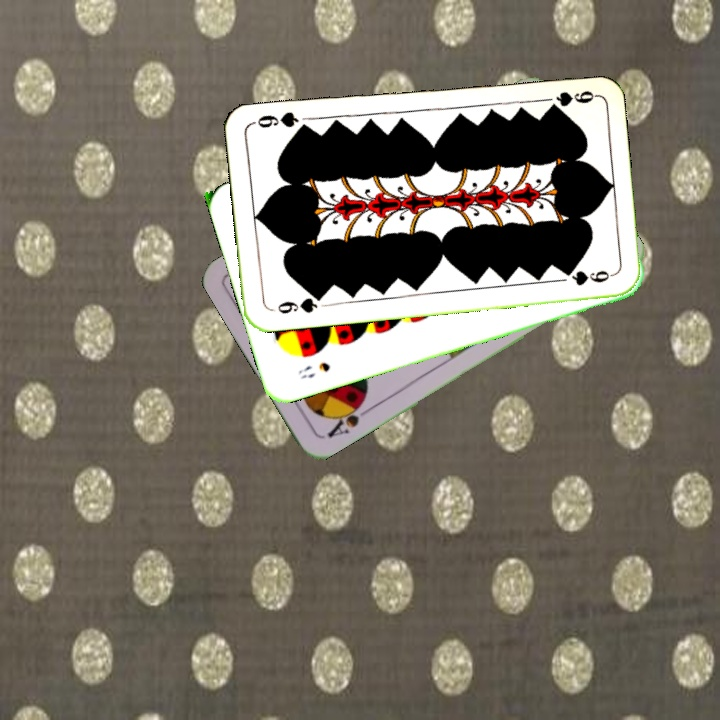G9: (267, 291, 326, 317), (552, 86, 597, 108)
S8: (294, 358, 333, 382)
SA: (323, 395, 374, 441)
